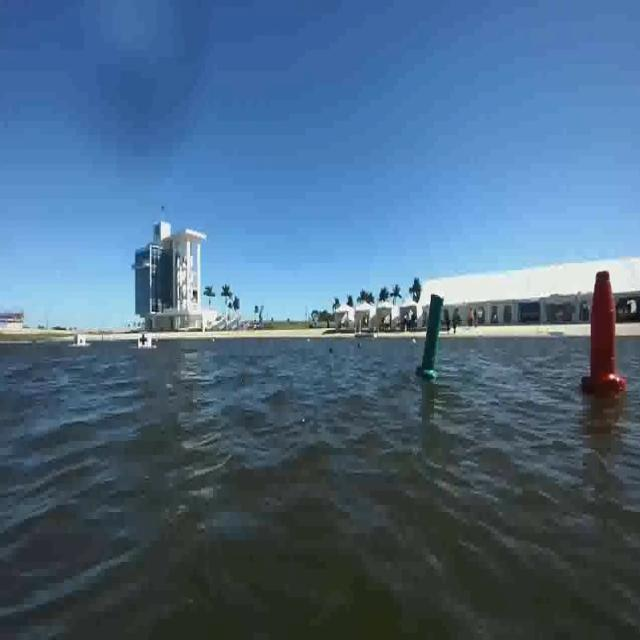green-column-buoy: (418, 294, 446, 381)
red-column-buoy: (580, 272, 624, 398)
